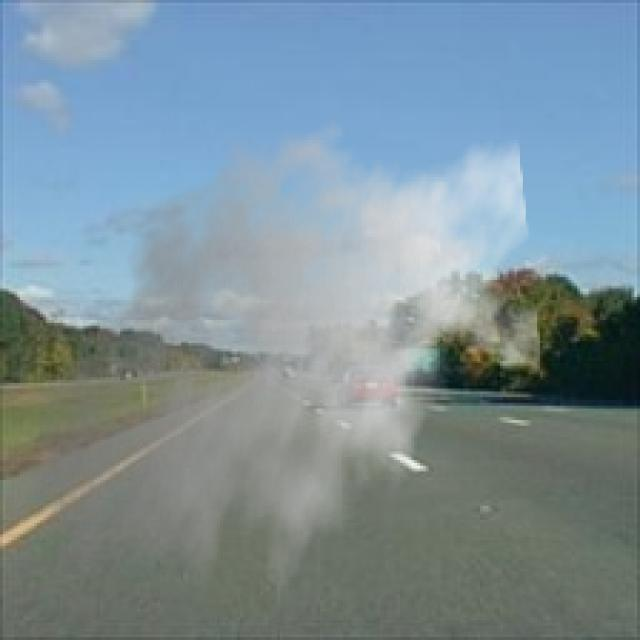smoke: (20, 103, 543, 631)
